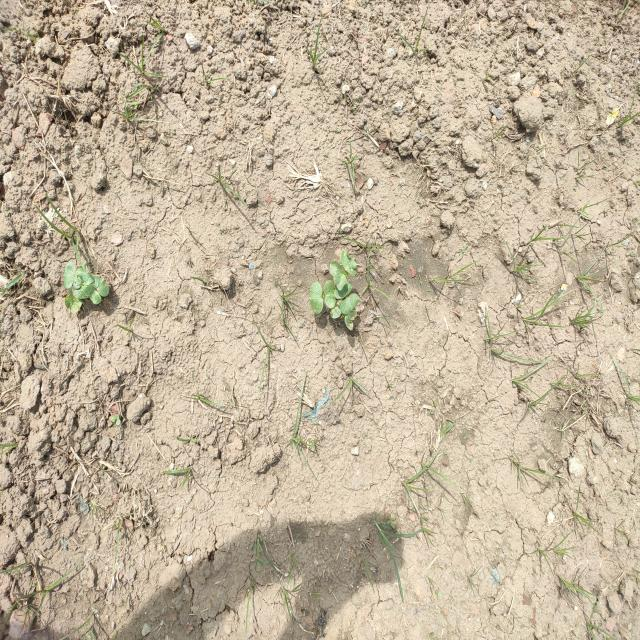seedling: (330, 261, 348, 291), (340, 250, 358, 276), (310, 281, 323, 314), (340, 294, 359, 315), (92, 276, 109, 297), (73, 273, 94, 290), (324, 280, 336, 309), (63, 262, 76, 288), (334, 281, 352, 299), (72, 284, 93, 299), (85, 286, 101, 305), (345, 310, 357, 330), (330, 299, 342, 318), (71, 299, 82, 313), (65, 292, 75, 307)
